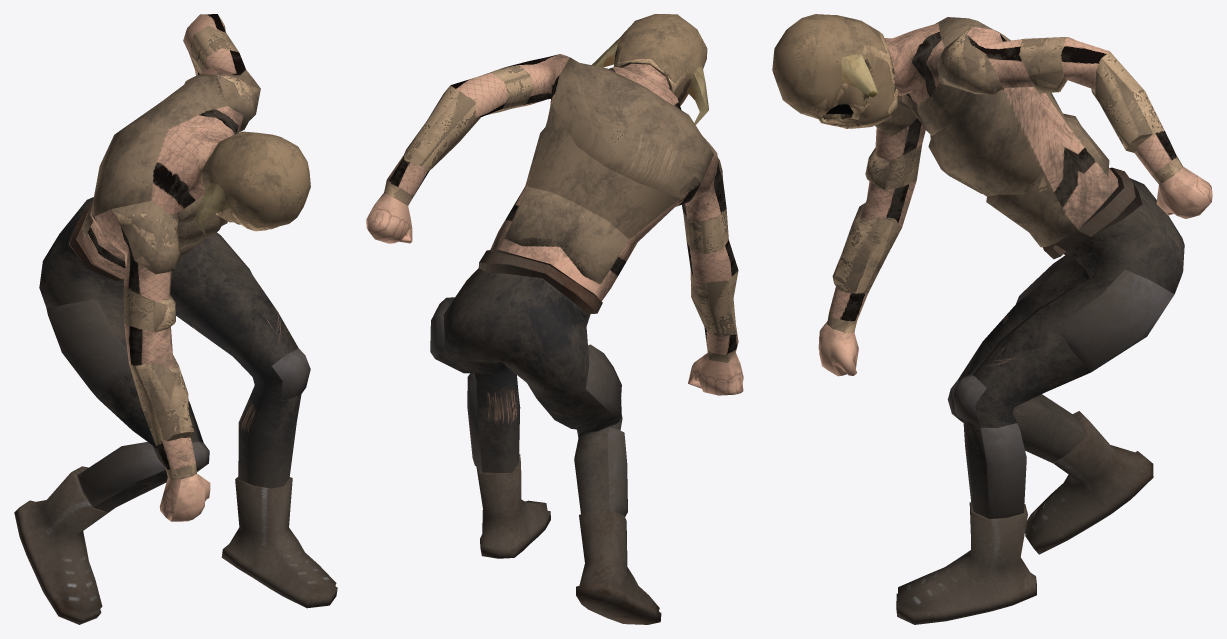
File: Anim_cogerobjeto_npc1.0029.obj
3 renders of one model, left to right at view 1: azimuth 30°, elevation 25°; view 2: azimuth 150°, elevation 25°; view 3: azimuth 270°, elevation 25°, orthographic. The views are drawn at different scales.
Visible parts, largest first — view 1: NPC2; view 2: NPC2; view 3: NPC2.
Part boxes in pixels (<box>): NPC2: <box>14,14,337,624</box>; NPC2: <box>366,14,743,624</box>; NPC2: <box>772,14,1212,624</box>.
Bounding box in the file's own units: 3.08 × 6.91 × 4.75.
